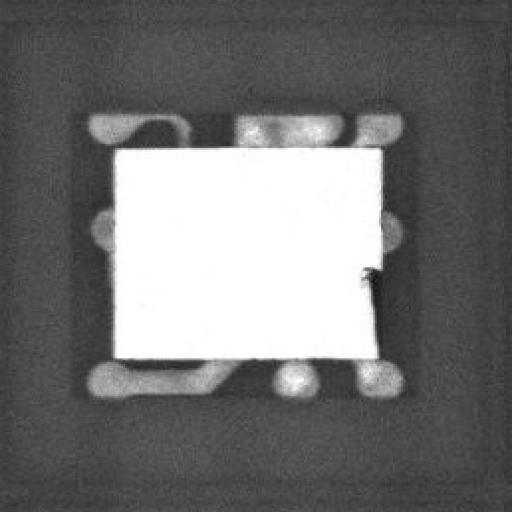DIE_BROKEN: (357, 264, 379, 358)
